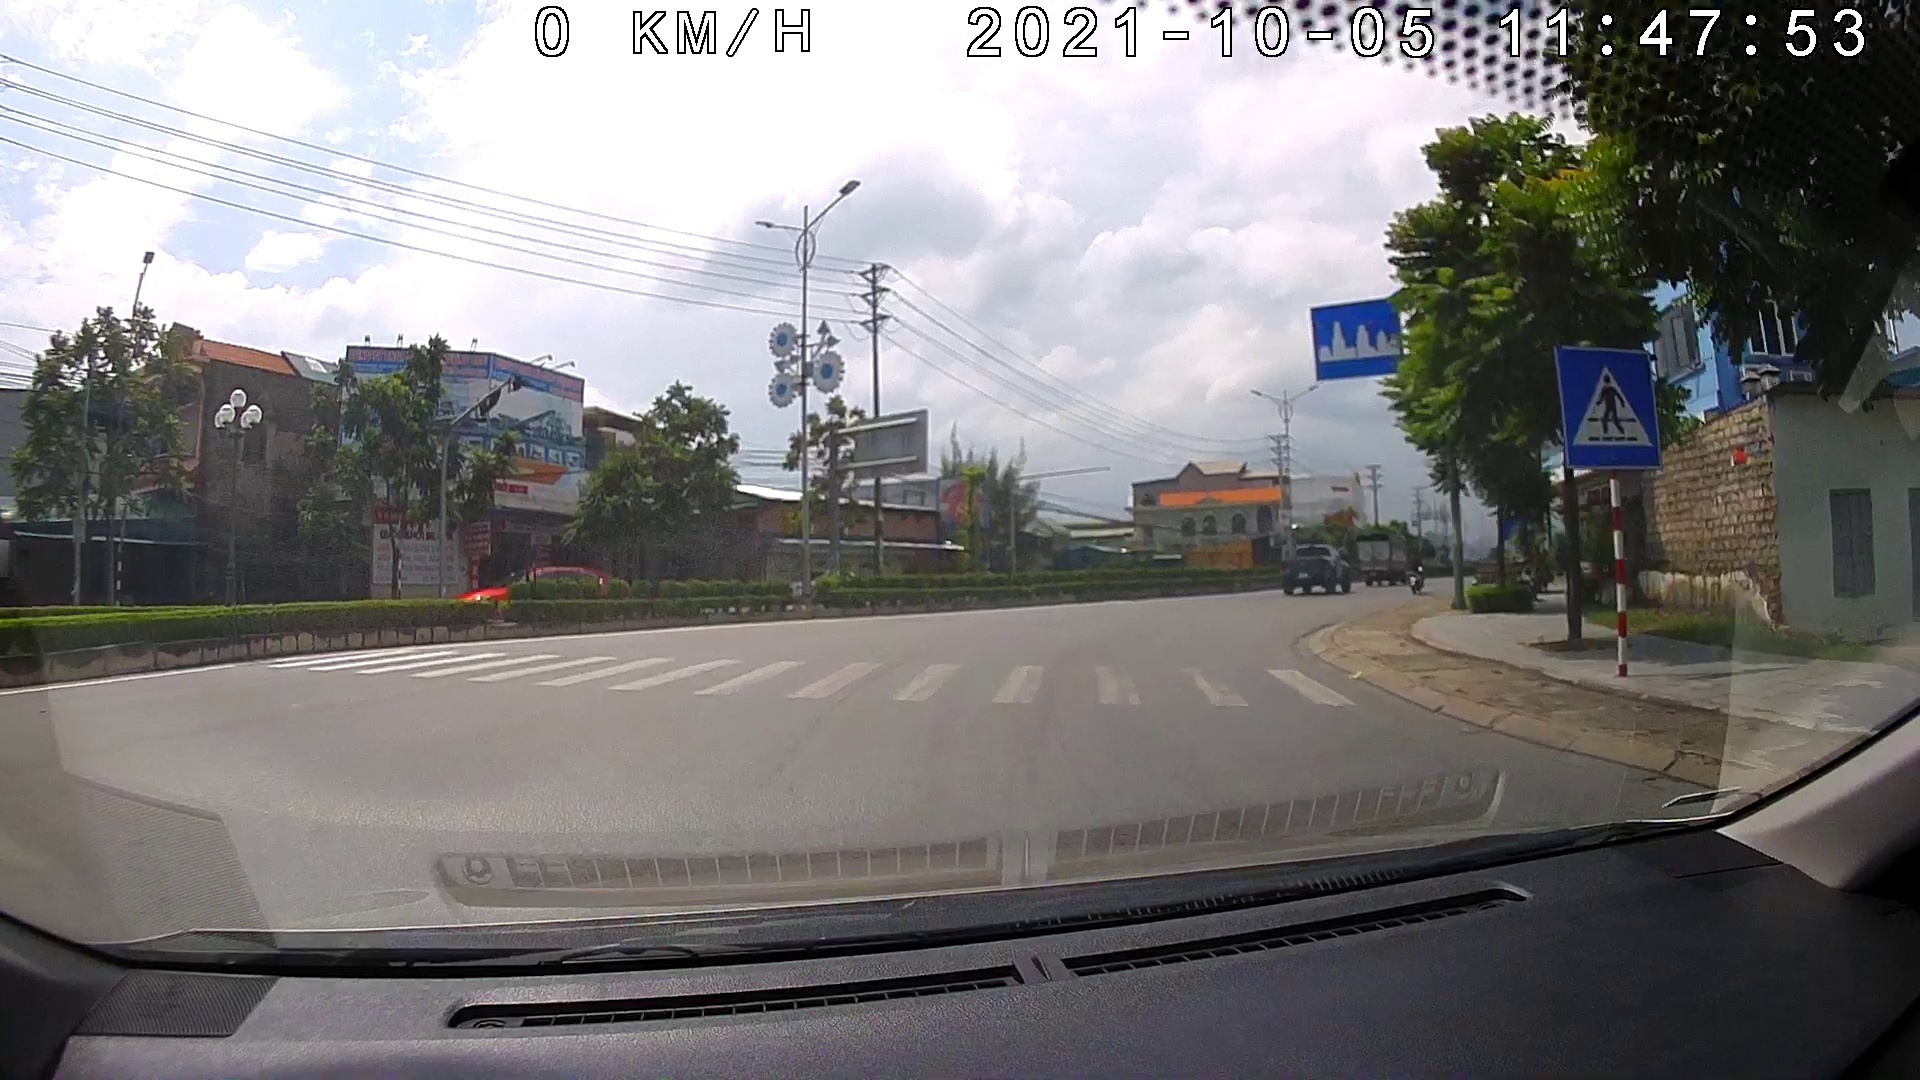Bien khac: (1309, 301, 1400, 378)
Nguoi di bo: (1553, 342, 1663, 473)
